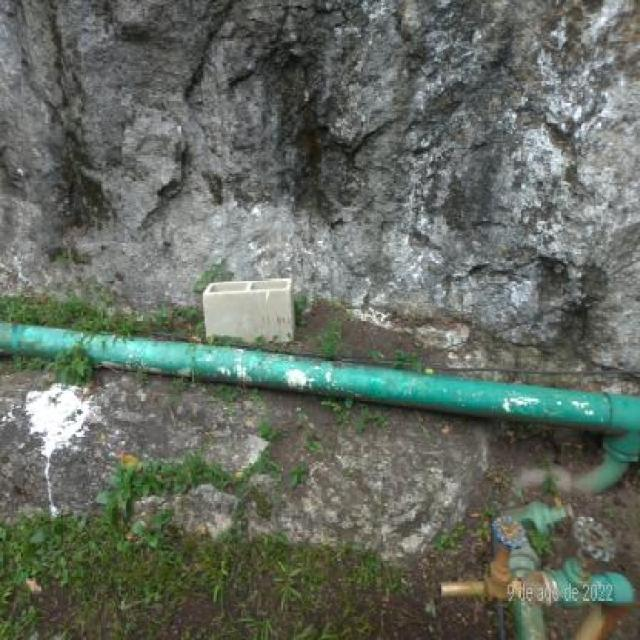gas: (1, 326, 640, 430)
